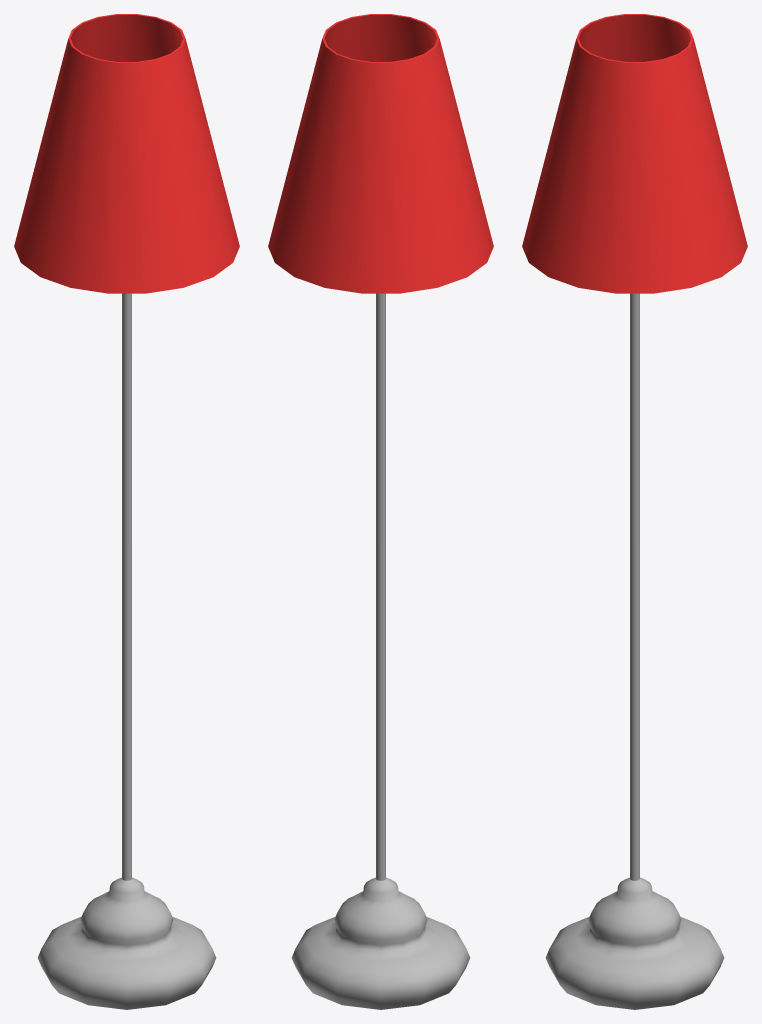
The model's file is torchere_4.FBX.
3 views of the same model, side by side, from view 1: azimuth 30°, elevation 25°; view 2: azimuth 150°, elevation 25°; view 3: azimuth 270°, elevation 25° (orthographic).
Parts seen in each view (by area): view 1: torchere_4; view 2: torchere_4; view 3: torchere_4.
Part boxes in pixels (x1,y1,x2,y2): torchere_4: (14,14,239,1009); torchere_4: (268,14,493,1009); torchere_4: (522,14,747,1009).
Size of the model in its own units: 0.3332 by 1.55 by 0.3383.
